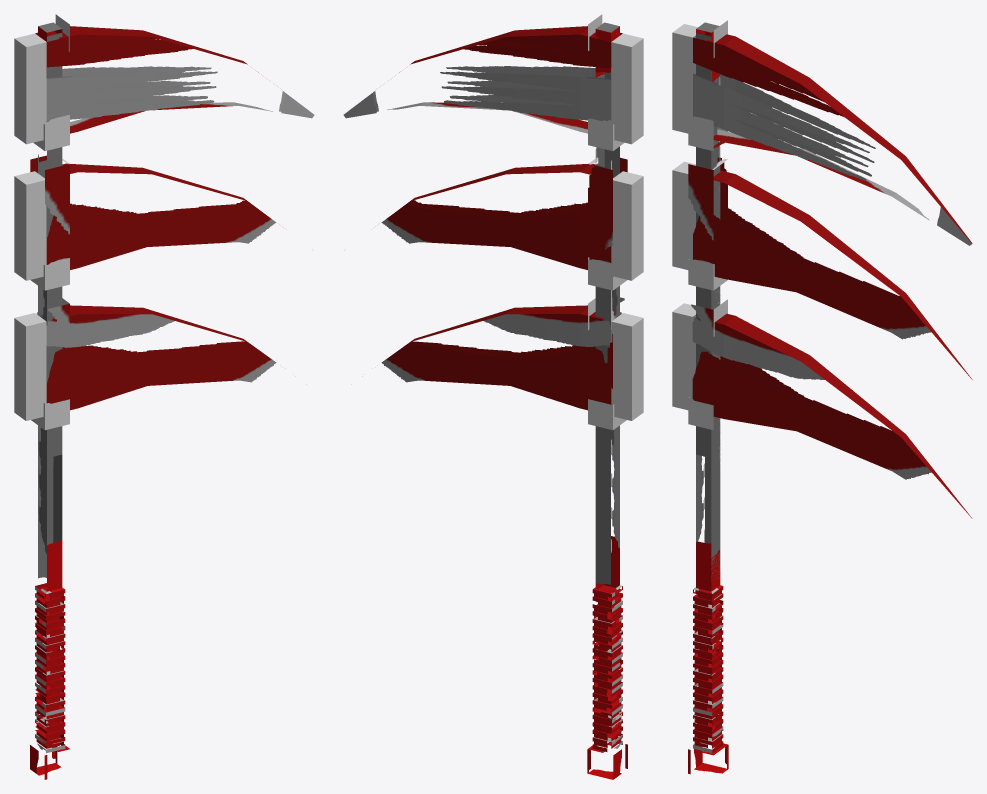
Rendered from triple_bladed_scythe.obj.
The picture shows the model from 3 angles, left to right: view 1: azimuth 30°, elevation 25°; view 2: azimuth 150°, elevation 25°; view 3: azimuth 330°, elevation 25°; orthographic projection.
Parts seen in each view (by area): view 1: Cube.001; view 2: Cube.001; view 3: Cube.001.
Boxes of the visible parts, x1=… form: Cube.001: x1=14, y1=14, x2=314, y2=779; Cube.001: x1=343, y1=14, x2=643, y2=779; Cube.001: x1=672, y1=20, x2=972, y2=774.
Size of the model in its own units: 297 by 722 by 25.98.
